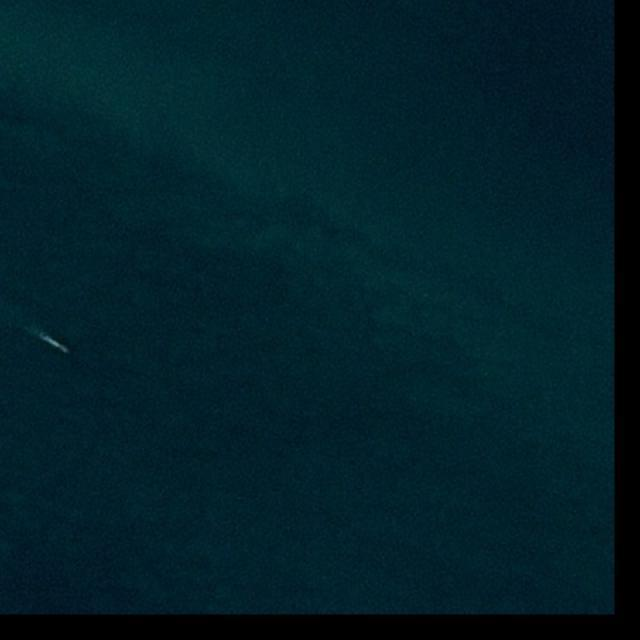ship: (58, 345, 70, 355)
